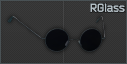Round frame sunglasses: (0, 0, 127, 64)
